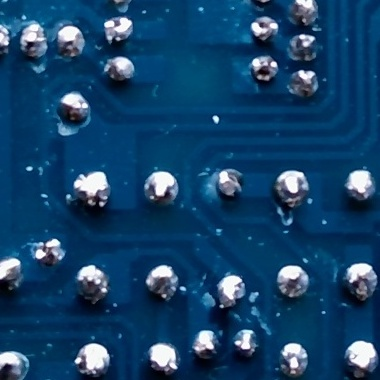?: (71, 171, 110, 210), (214, 169, 245, 201), (31, 238, 67, 265), (289, 69, 320, 97), (101, 18, 135, 43), (290, 33, 319, 60), (249, 0, 279, 3)
drag: (344, 261, 379, 300), (0, 255, 24, 290)
little: (248, 12, 279, 40), (252, 54, 280, 82), (0, 23, 9, 57)
norm: (77, 340, 112, 380), (75, 263, 109, 302), (346, 338, 376, 380), (144, 171, 180, 205), (279, 340, 309, 379), (147, 263, 179, 299), (278, 264, 310, 300), (275, 170, 308, 204), (19, 21, 47, 60), (188, 328, 221, 359), (147, 342, 178, 374), (58, 92, 91, 122), (346, 169, 376, 202), (104, 55, 139, 83), (56, 23, 84, 57), (287, 0, 321, 27), (0, 350, 27, 380), (233, 330, 260, 358), (101, 0, 137, 5)
tip: (218, 273, 247, 310)
